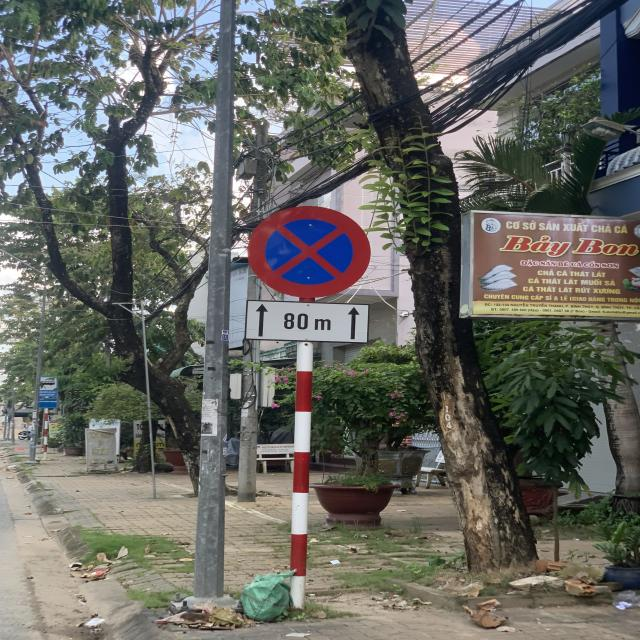Cam_Dung_Va_Dau_Xe: (250, 206, 372, 298)
